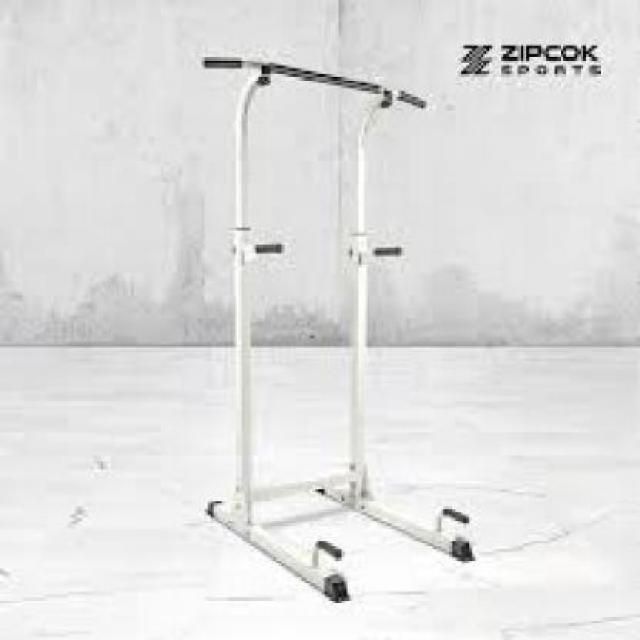chinning dipping: (198, 52, 476, 603)
